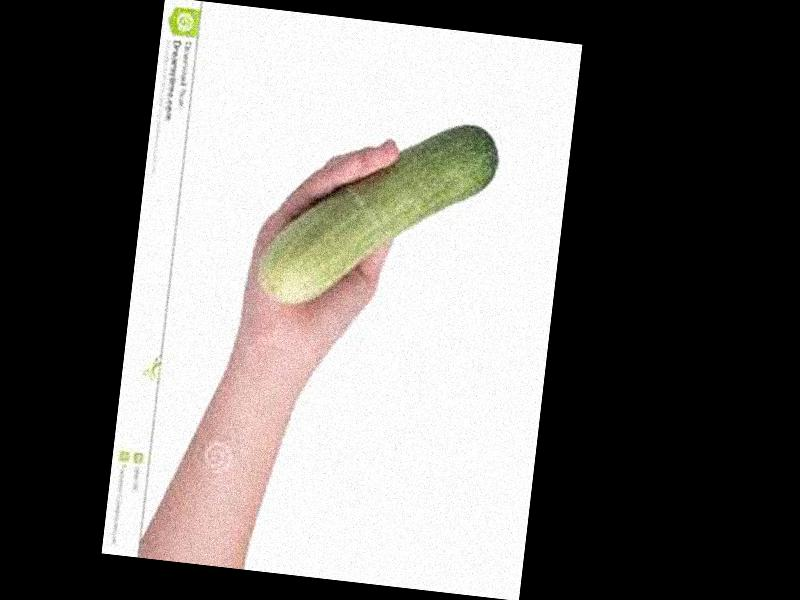Cucumber: (257, 106, 499, 324)
